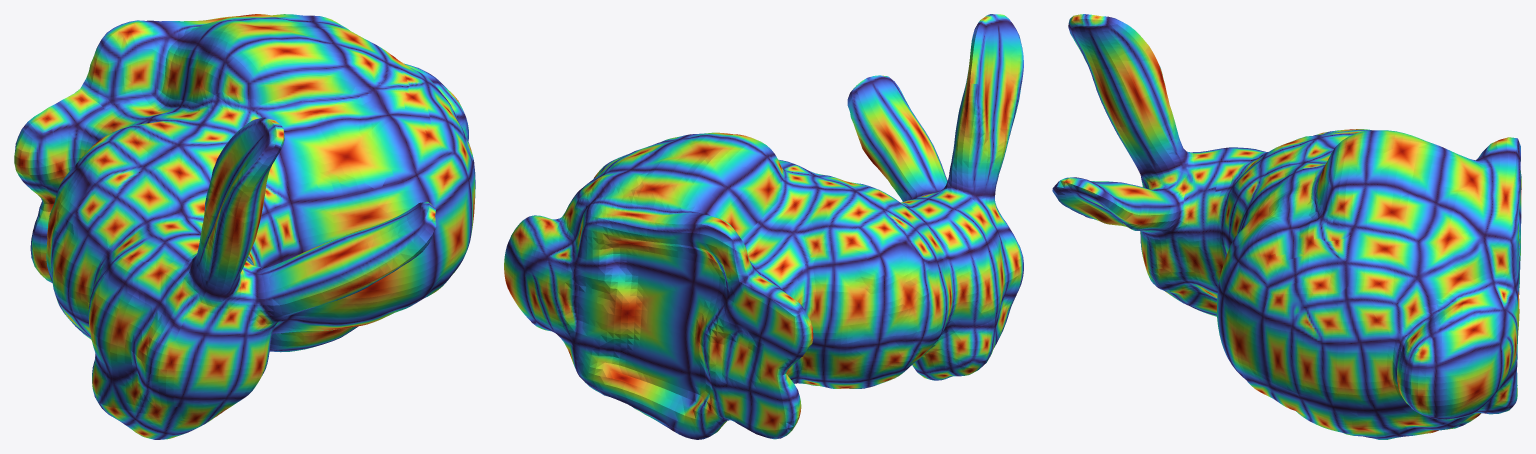
Rendered from gen2.glb.
3 renders of one model, left to right at view 1: azimuth 30°, elevation 25°; view 2: azimuth 150°, elevation 25°; view 3: azimuth 270°, elevation 25°, orthographic. The views are drawn at different scales.
Visible parts, largest first — view 1: Node; view 2: Node; view 3: Node.
Boxes of the visible parts, box(x1,y1,x2,y2) form: Node: box(14, 14, 475, 439); Node: box(504, 14, 1023, 439); Node: box(1052, 14, 1521, 439).
Size of the model in its own units: 0.6266 by 0.4796 by 0.6102.
Materials: 1 (1 with a texture image).
